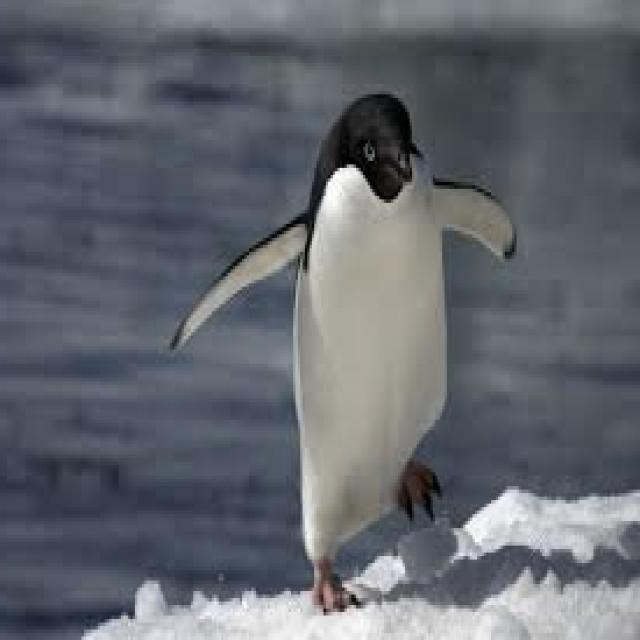penguin: (172, 91, 517, 609)
